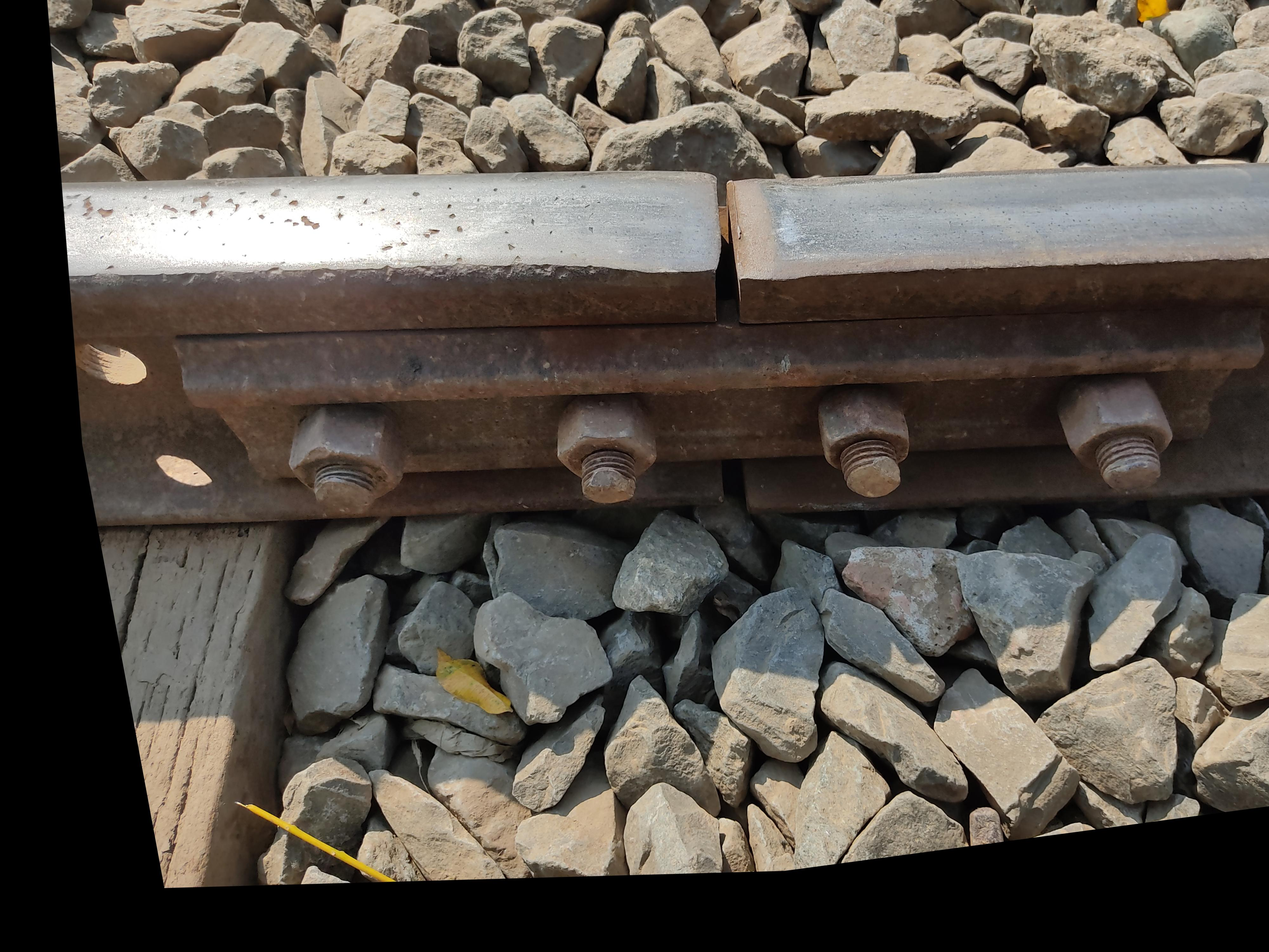person: (587, 57, 916, 345), (656, 349, 849, 520)
